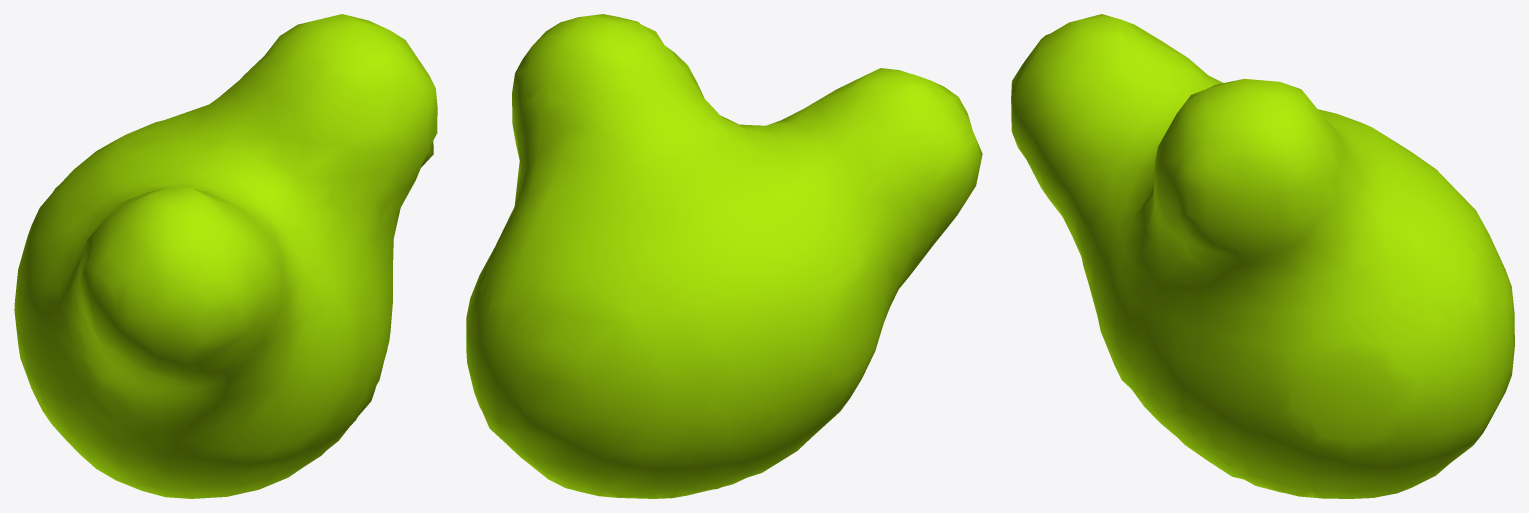
The model's file is slime goo.fbx.
3 renders of one model, left to right at view 1: azimuth 30°, elevation 25°; view 2: azimuth 150°, elevation 25°; view 3: azimuth 270°, elevation 25°, orthographic. The views are drawn at different scales.
Visible parts, largest first — view 1: Mball.004; view 2: Mball.004; view 3: Mball.004.
Boxes of the visible parts, x1,y1,x2,y2 form: Mball.004: (14,14,437,498); Mball.004: (466,14,982,498); Mball.004: (1011,14,1514,498).
Bounding box in the file's own units: 355 × 376 × 391.
